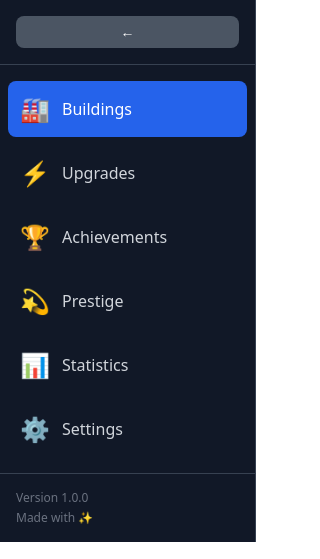
Scenario: Sidebar › should toggle collapse state
Step 1. Click the button named "Collapse sidebar" → (128, 32), box [16,16,239,48]
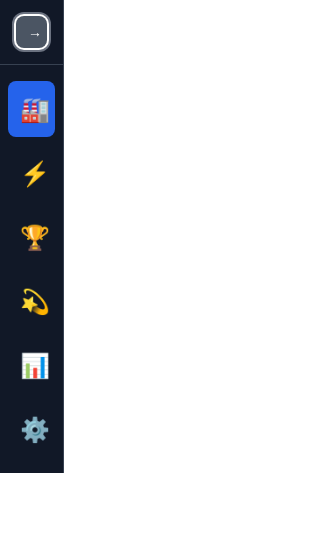
Step 2. Click the button named "Expand sidebar" → (32, 32), box [16,16,47,48]
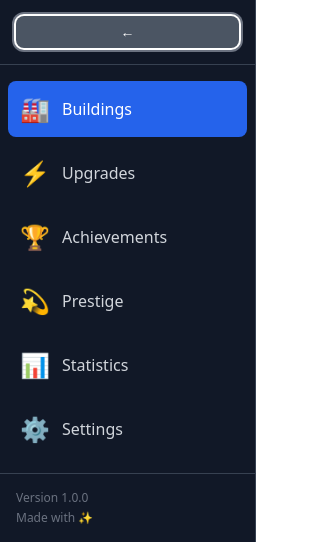
Now the button named "Collapse sidebar" is expanded, box [16,16,239,48]
